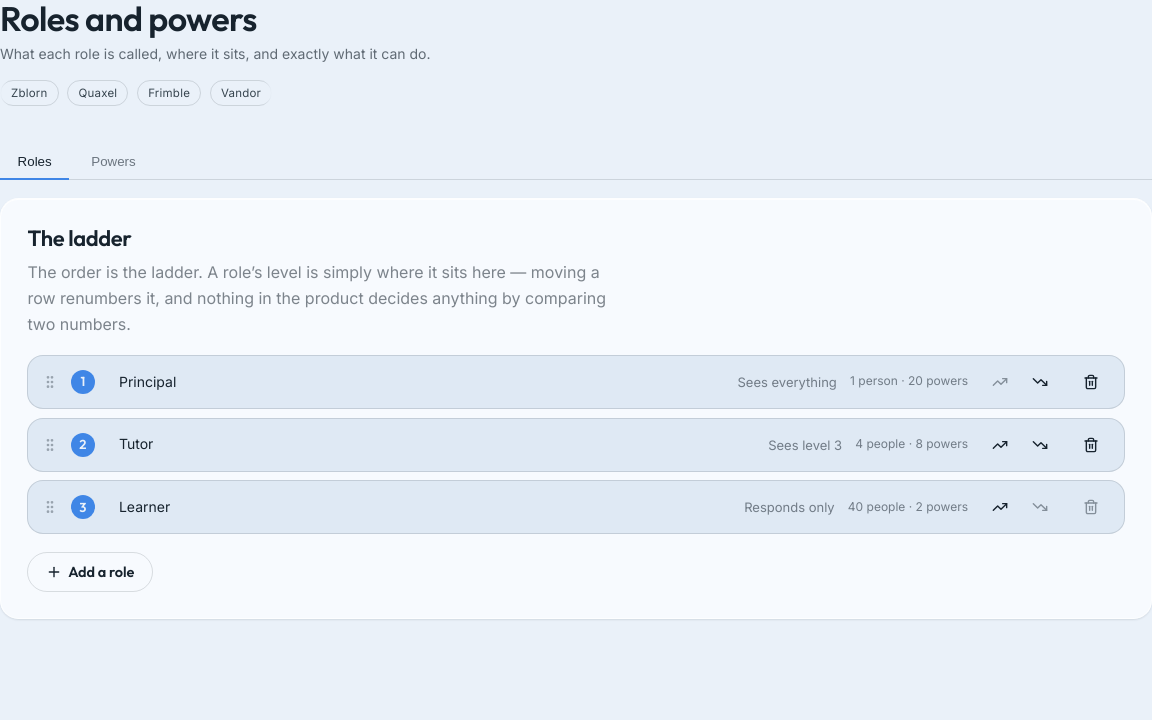
Test: the roles tab › names the number of PEOPLE before deleting a held role
Expected: the field showing "Tutor" in the row of "Sees level 3" is shown, [108,427,408,462]
Click the 6th button named "Delete Tutor": point(1091, 445) [1072,426,1110,464]
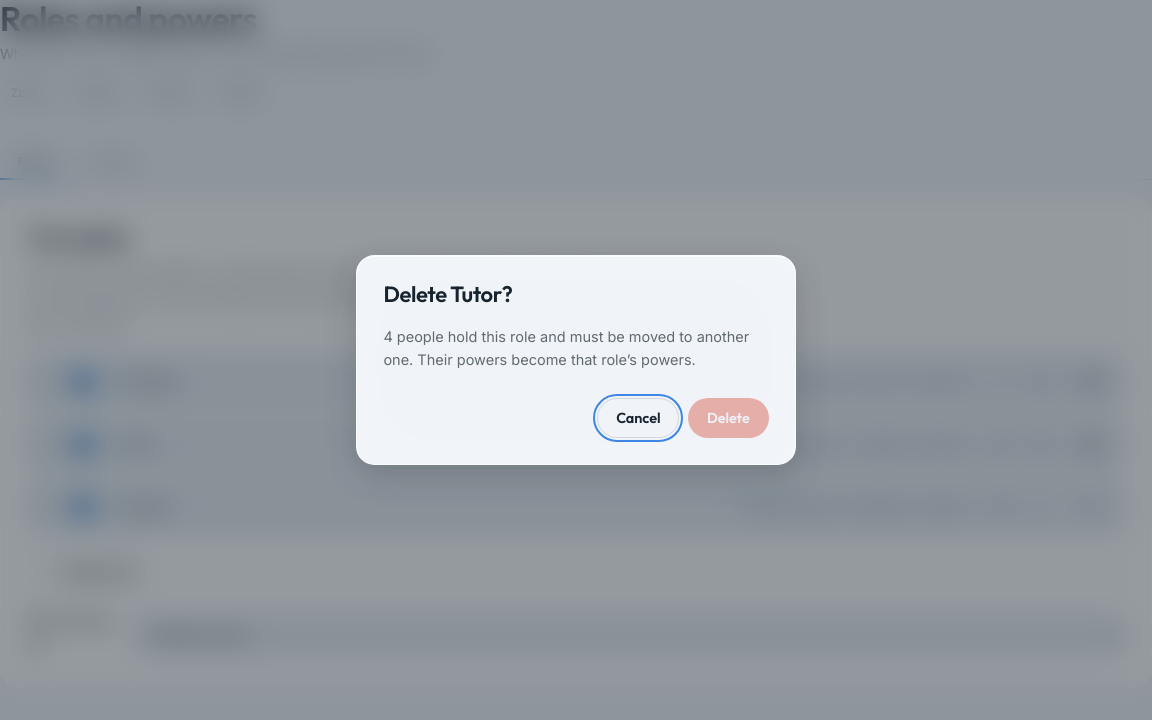
Now the text "4 people hold this role" is shown, box [383,328,749,368]
Now the button "Delete" is disabled, box [688,398,769,438]
